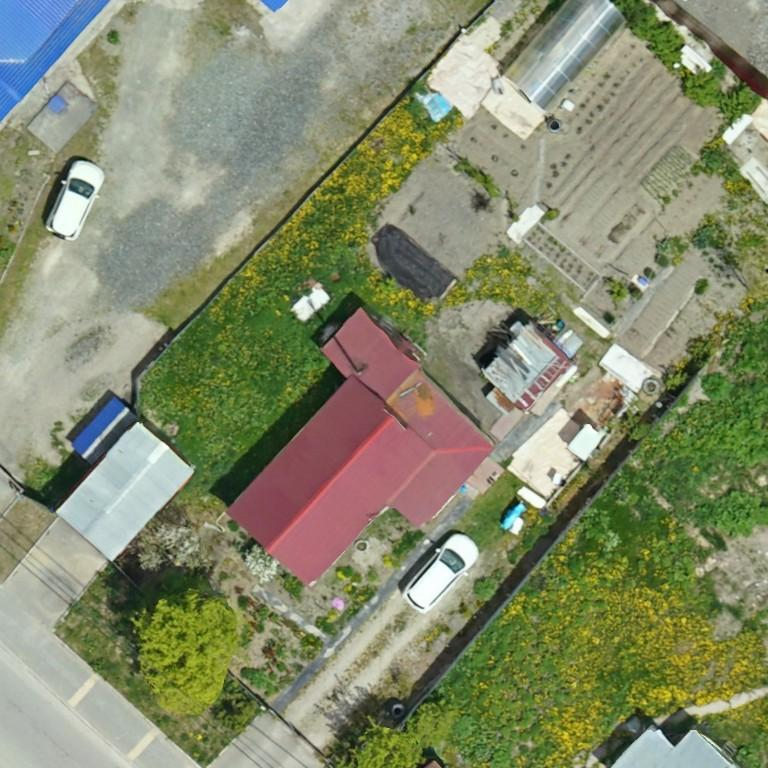hogweed: (644, 321, 767, 462), (688, 488, 767, 538)
